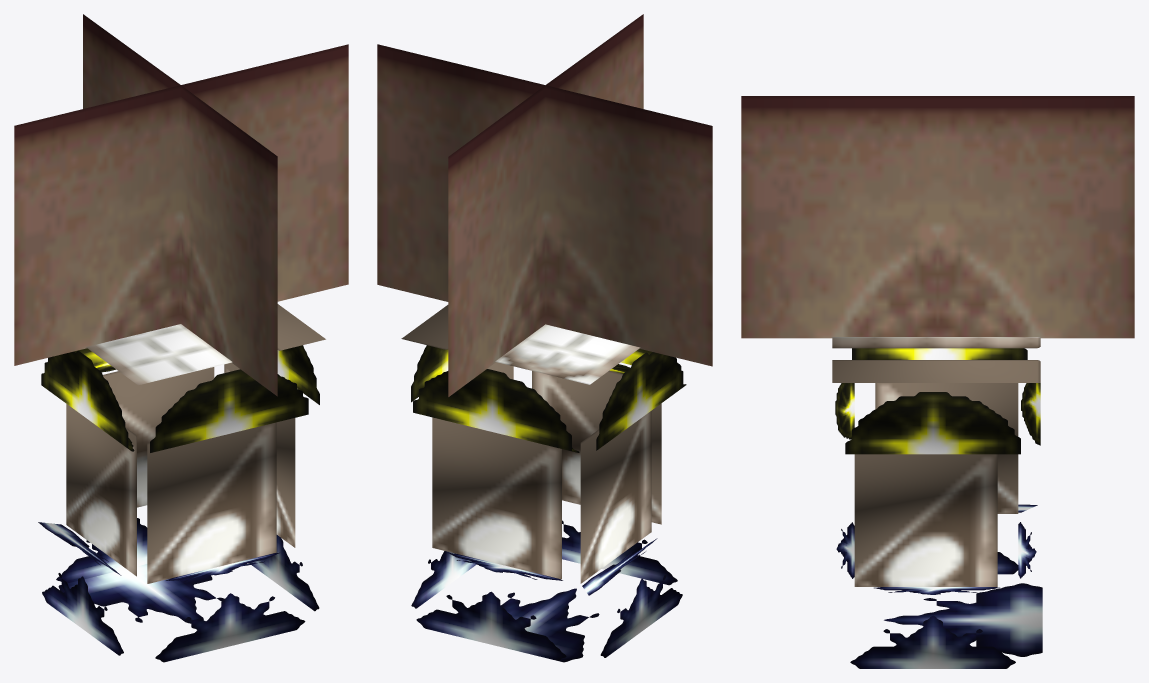
The picture shows the model from 3 angles, left to right: view 1: azimuth 30°, elevation 25°; view 2: azimuth 150°, elevation 25°; view 3: azimuth 270°, elevation 25°; orthographic projection.
Parts seen in each view (by area): view 1: T1L1M002_12; view 2: T1L1M002_12; view 3: T1L1M002_12.
Boxes of the visible parts, x1,y1,x2,y2 form: T1L1M002_12: (14, 14, 348, 662); T1L1M002_12: (377, 14, 712, 662); T1L1M002_12: (741, 96, 1134, 668).
Bounding box in the file's own units: 1.69 × 2.51 × 1.7.
